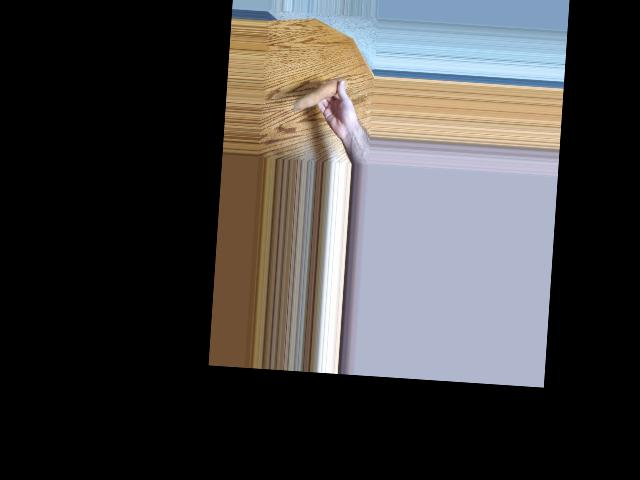sweet_potato: (293, 74, 349, 114)
